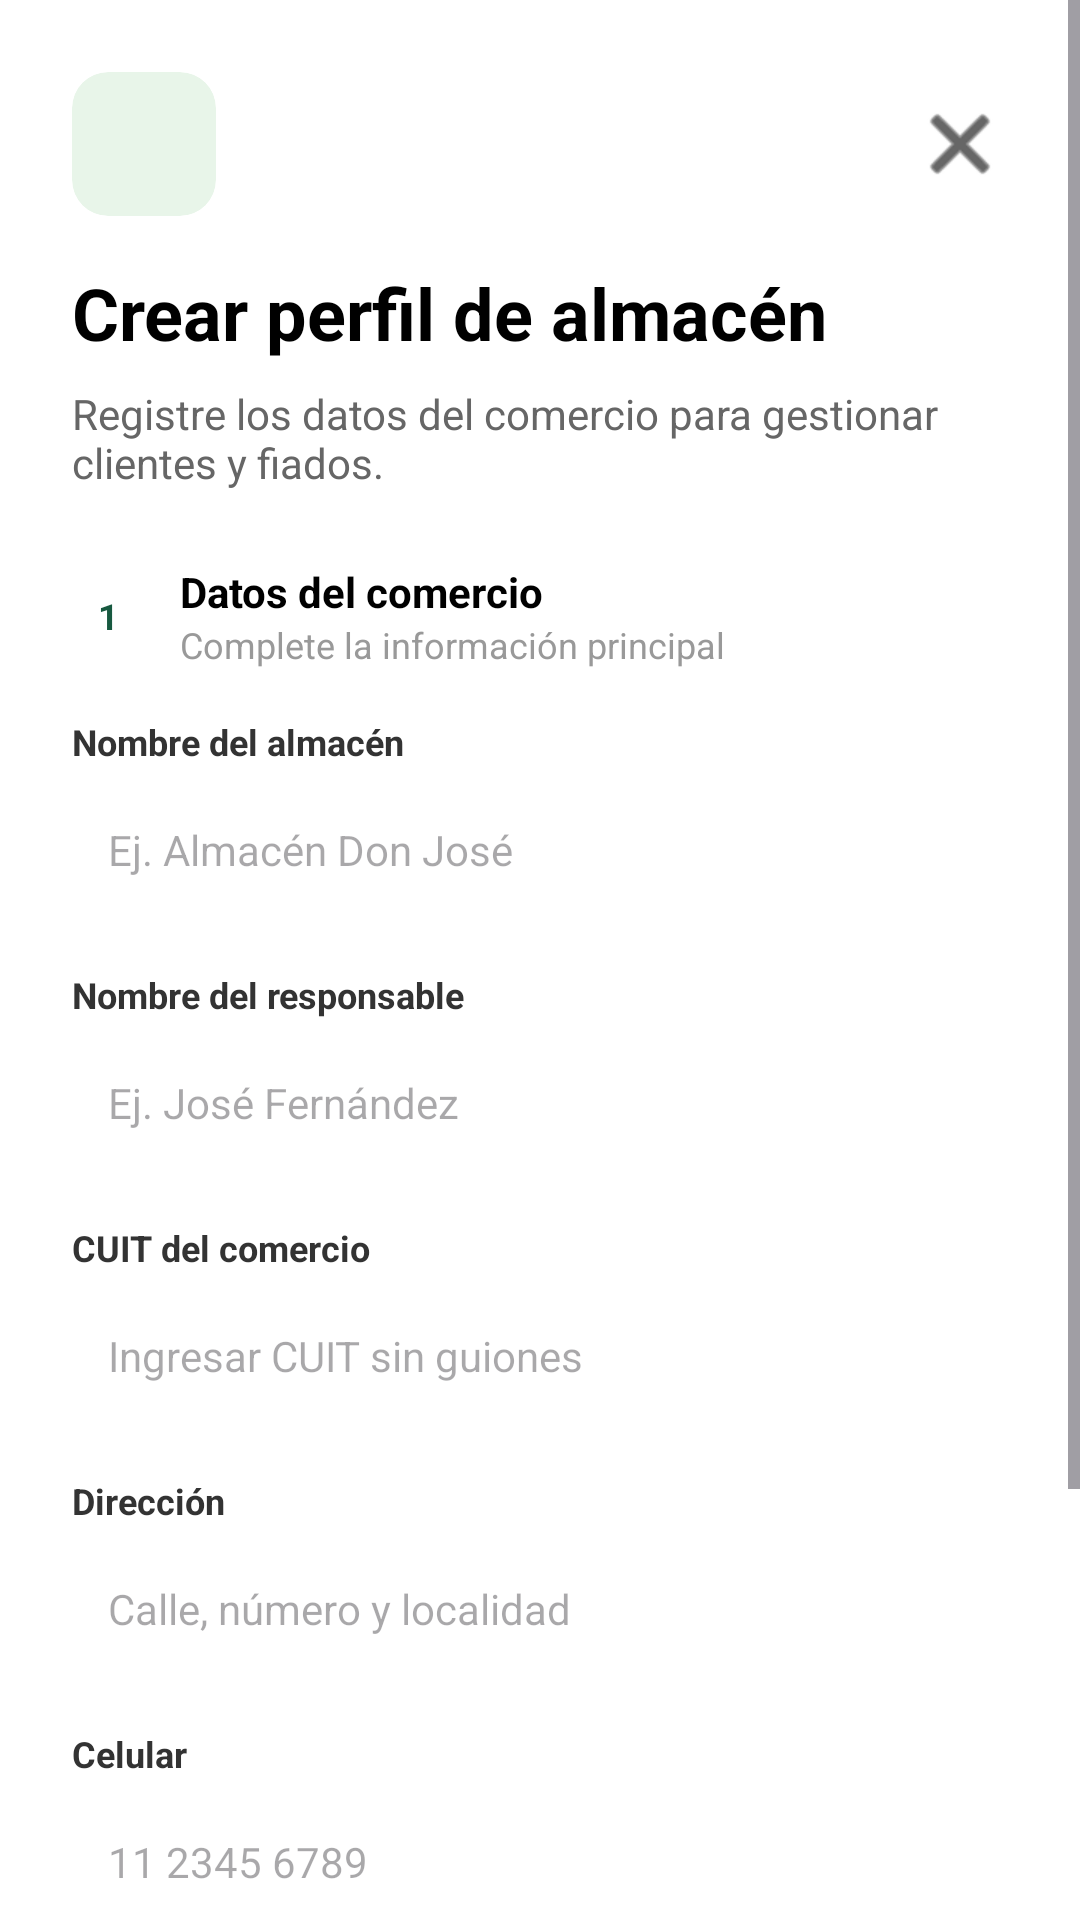

Icon click points for this 1080px x 1920px phone screenshot, format (x=x, y=y):
close clear cancel: (x=960, y=144)
